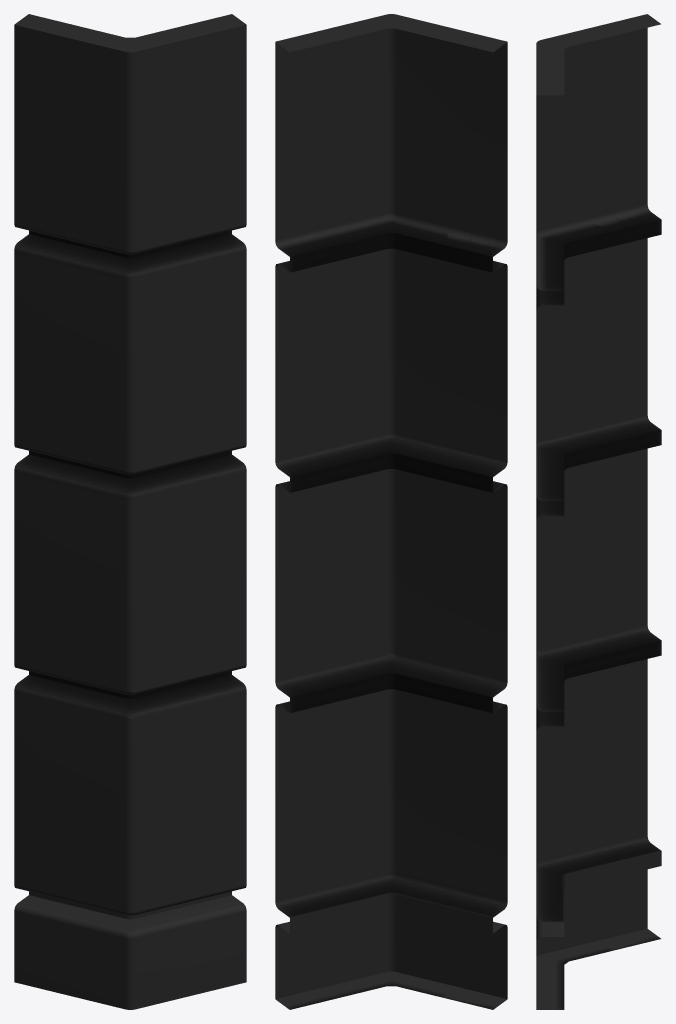
The model's file is OBT_MOT_SW.fbx.
3 renders of one model, left to right at view 1: azimuth 30°, elevation 25°; view 2: azimuth 210°, elevation 25°; view 3: azimuth 270°, elevation 25°, orthographic. The views are drawn at different scales.
Parts seen in each view (by area): view 1: OBT_MOT_SW; view 2: OBT_MOT_SW; view 3: OBT_MOT_SW.
Part boxes in pixels (<box>): OBT_MOT_SW: <box>14,14,246,1009</box>; OBT_MOT_SW: <box>275,14,507,1009</box>; OBT_MOT_SW: <box>536,14,661,1009</box>.
Size of the model in its own units: 0.8582 by 4.5 by 0.558.
